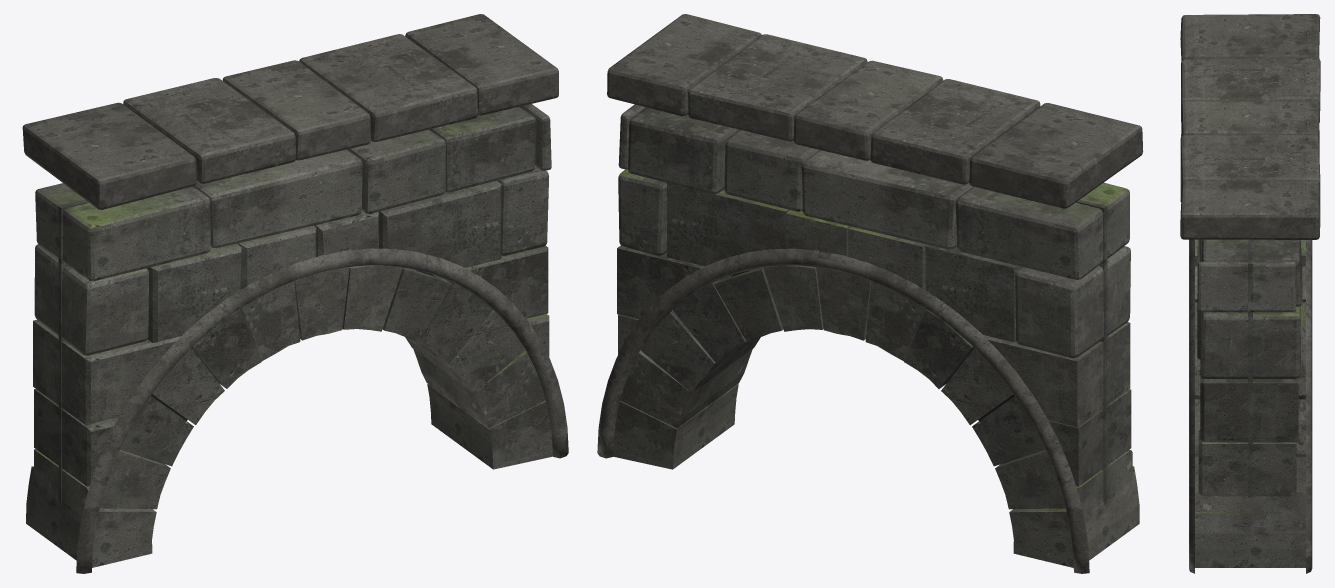
Rendered from ER_Ecoincon_Arc_3m8.gltf.
The picture shows the model from 3 angles, left to right: view 1: azimuth 30°, elevation 25°; view 2: azimuth 150°, elevation 25°; view 3: azimuth 270°, elevation 25°; orthographic projection. The views are drawn at different scales.
Visible parts, largest first — view 1: ER_Ecoincon_Arc_3m8_P.001, ER_Ecoincon_Arc_3m8_MOUL.001, ER_Ecoincon_Arc_3m8_PS.001; view 2: ER_Ecoincon_Arc_3m8_P.001, ER_Ecoincon_Arc_3m8_MOUL.001, ER_Ecoincon_Arc_3m8_PS.001; view 3: ER_Ecoincon_Arc_3m8_MOUL.001, ER_Ecoincon_Arc_3m8_P.001, ER_Ecoincon_Arc_3m8_PS.001.
Part boxes in pixels (x1,y1,x2,y2): ER_Ecoincon_Arc_3m8_P.001: (26,104,552,567); ER_Ecoincon_Arc_3m8_MOUL.001: (22,14,568,573); ER_Ecoincon_Arc_3m8_PS.001: (58,200,88,505); ER_Ecoincon_Arc_3m8_P.001: (613,104,1139,567); ER_Ecoincon_Arc_3m8_MOUL.001: (597,14,1143,573); ER_Ecoincon_Arc_3m8_PS.001: (1076,200,1107,505); ER_Ecoincon_Arc_3m8_MOUL.001: (1180,14,1320,573); ER_Ecoincon_Arc_3m8_P.001: (1195,239,1305,567); ER_Ecoincon_Arc_3m8_PS.001: (1248,239,1252,497).
Size of the model in its own units: 4.04 by 3.09 by 1.11.
Materials: 4 (3 with a texture image).
